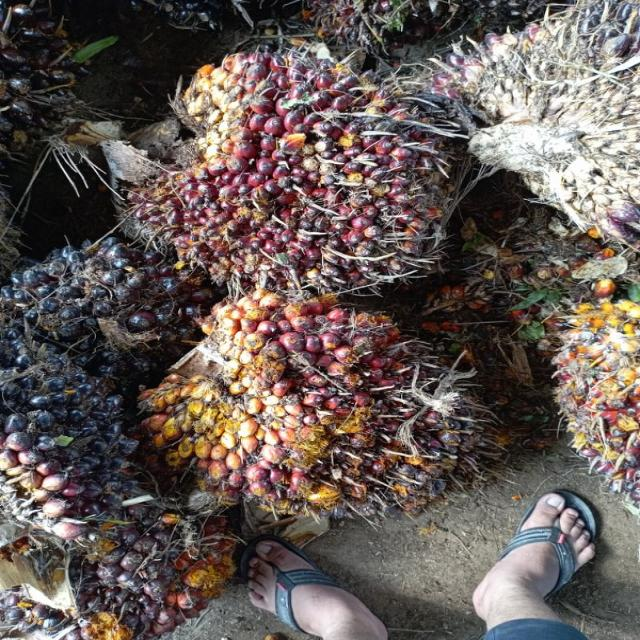fraksi 00: (0, 238, 180, 362)
fraksi 1: (139, 280, 504, 525), (130, 54, 458, 303)
